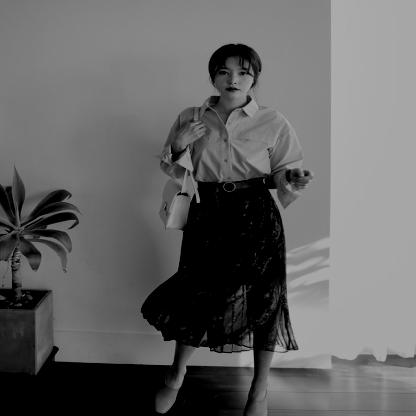dress: (138, 179, 308, 355), (164, 91, 306, 205)
jean: (135, 39, 328, 416)
